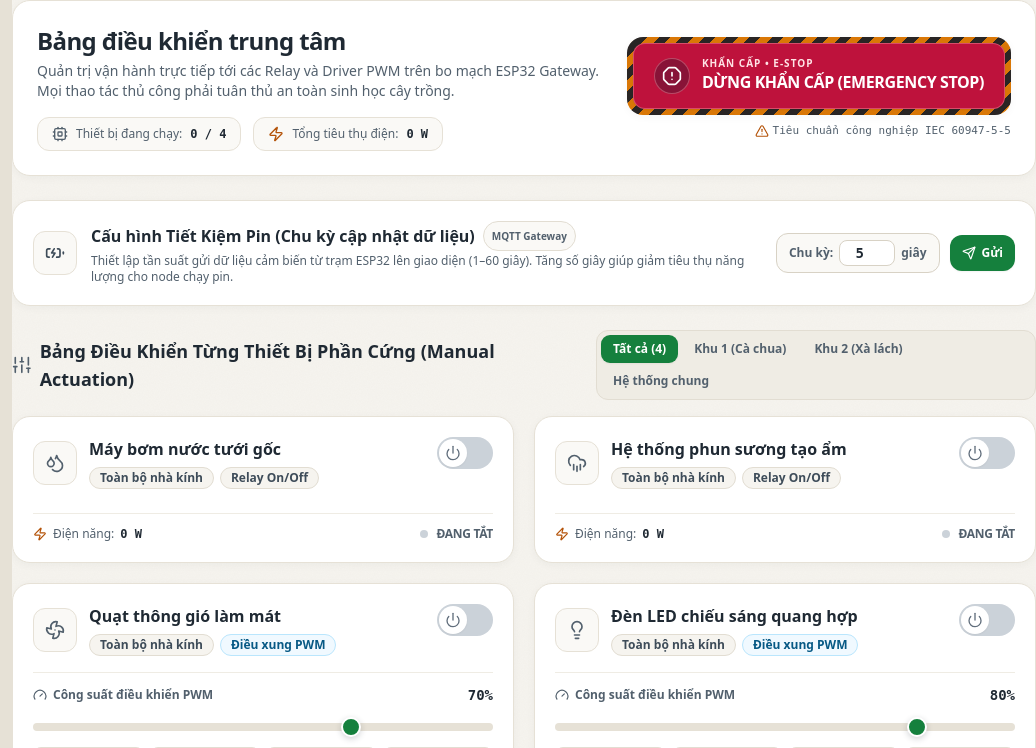
Test: Safety & Boundary Challenger 2 Verification Suite › Emergency Stop Safety & Latch Mechanism › INTERLOCKS actuator switches while EMERGENCY HALTED banner is active until Re-arm
Click the button "KHẨN CẤP • E-STOP DỪNG KHẨN CẤP (EMERGENCY STOP)": (819, 76) x1=633 y1=43 x2=1005 y2=109
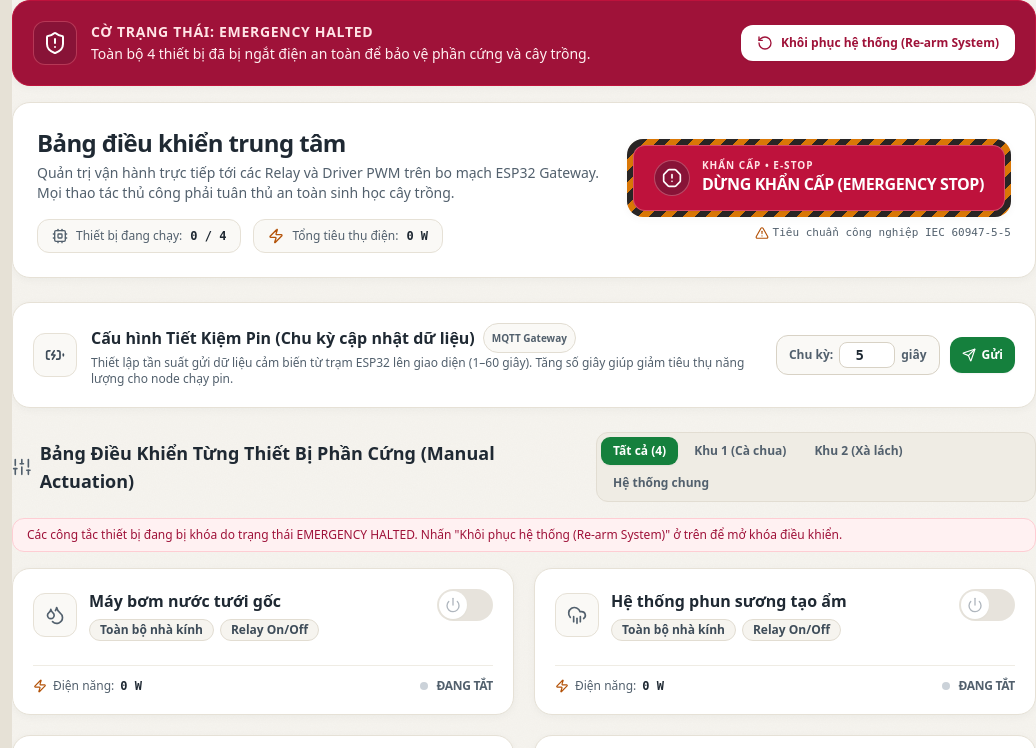
Result: the text "Cờ Trạng Thái: EMERGENCY HALTED" is shown at x1=91 y1=22 x2=373 y2=41
Result: the button named "Bật tắt Máy bơm nước tưới gốc" is disabled at x1=437 y1=589 x2=493 y2=621
// Re-arming unlocks the actuator switches
Click the button "Khôi phục hệ thống (Re-arm System)": (878, 43) x1=741 y1=25 x2=1015 y2=61
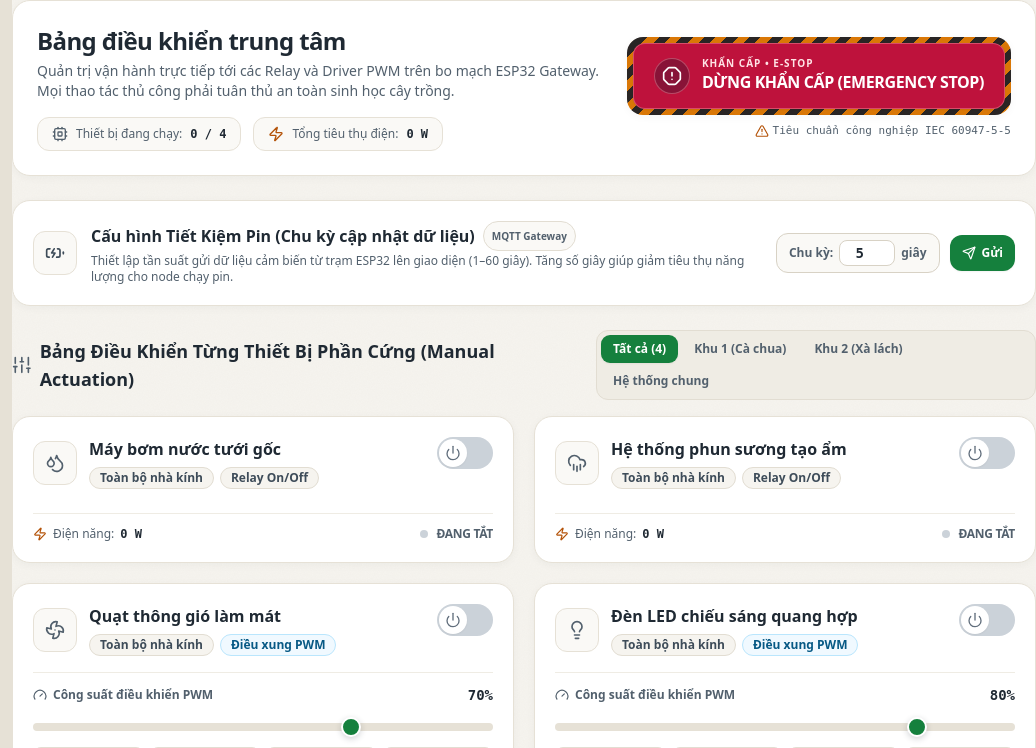
Result: the button named "Bật tắt Máy bơm nước tưới gốc" is enabled at x1=437 y1=437 x2=493 y2=469
